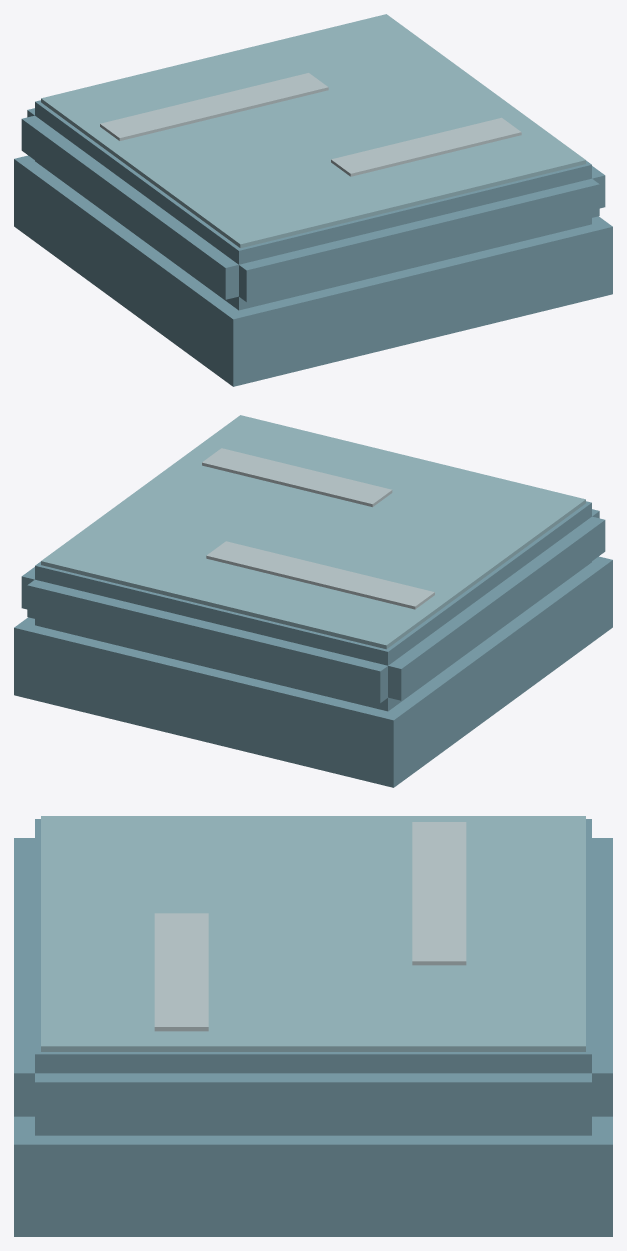
Rendered from Block_Ice.glb.
3 views of the same model, one above another, from view 1: azimuth 30°, elevation 25°; view 2: azimuth 150°, elevation 25°; view 3: azimuth 270°, elevation 25° (orthographic). The views are drawn at different scales.
Visible parts, largest first — view 1: geometry_0; view 2: geometry_0; view 3: geometry_0.
Boxes of the visible parts, bbox=[...] form: geometry_0: bbox=[14, 14, 612, 386]; geometry_0: bbox=[14, 415, 612, 787]; geometry_0: bbox=[14, 816, 612, 1236].
Size of the model in its own units: 2 by 0.675 by 2.
